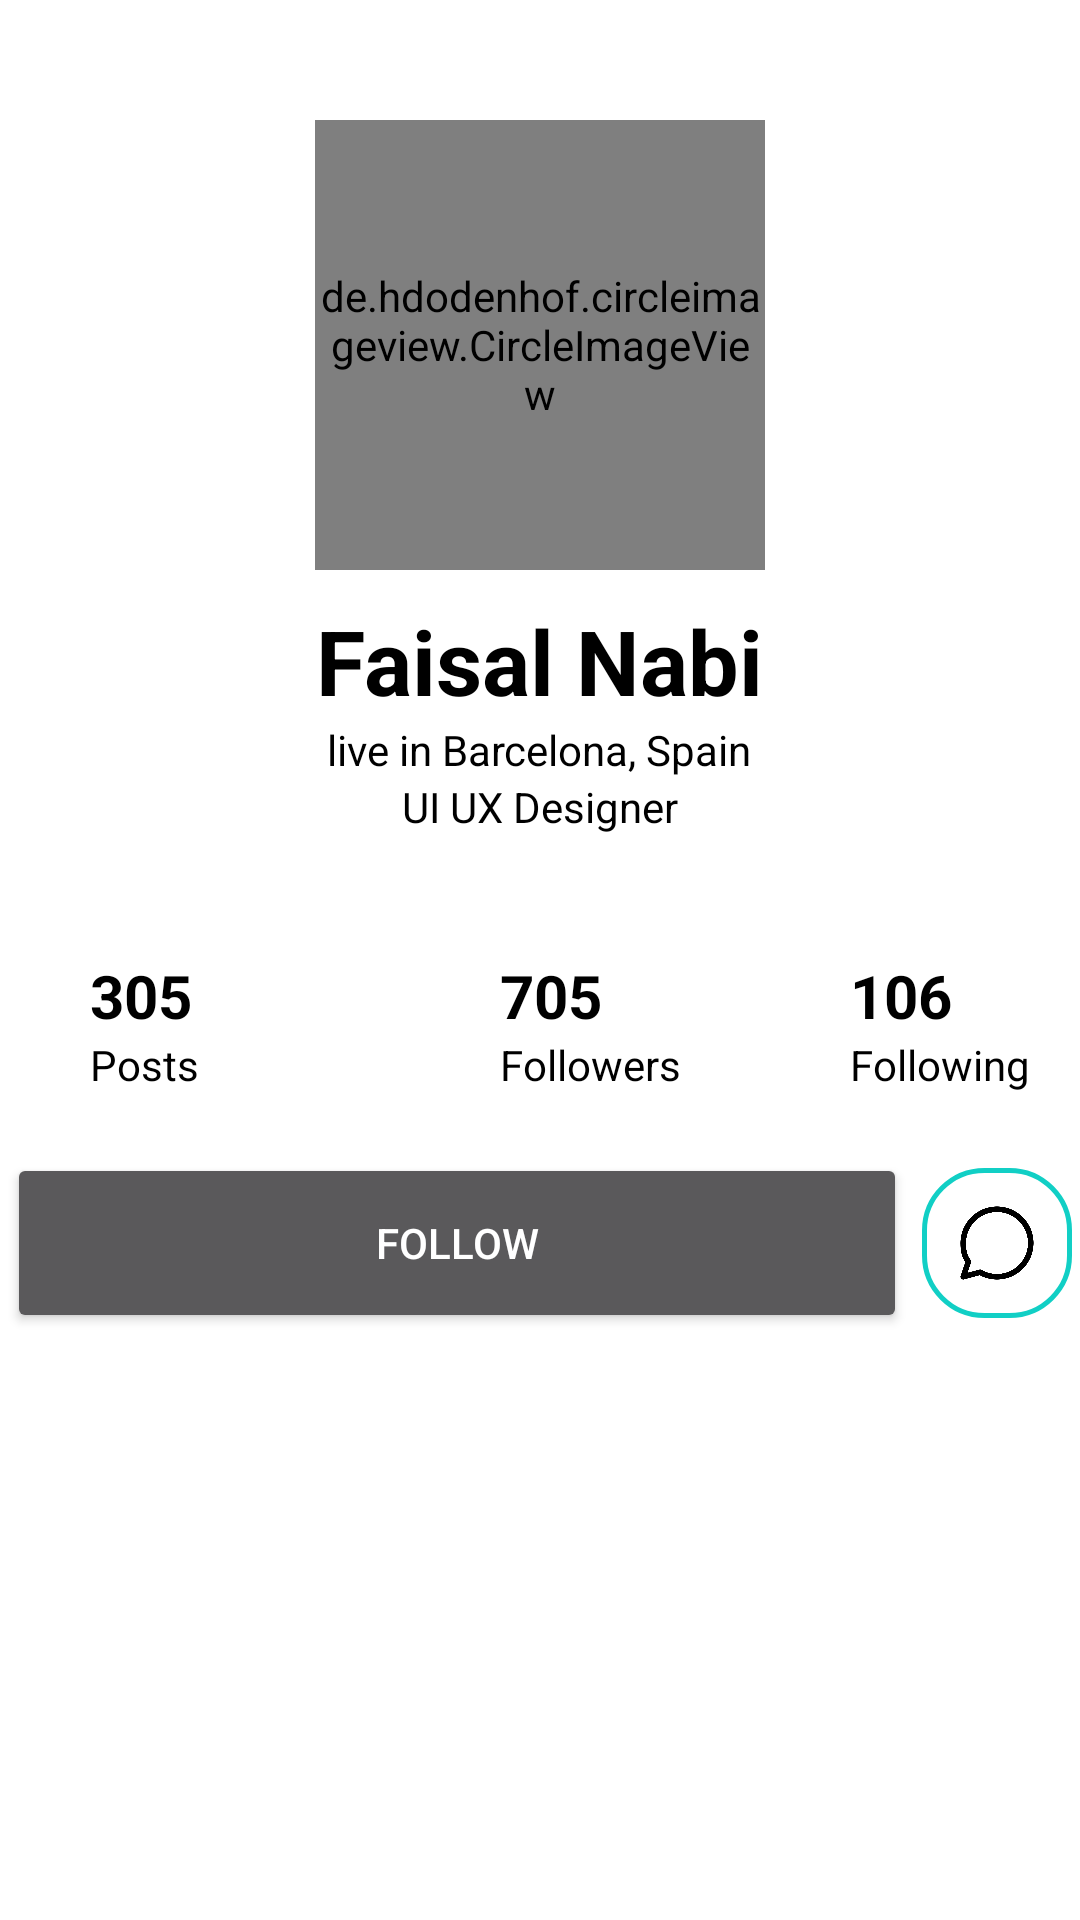

Screen size 1080×1920. Icon name, then its center in pixels as [x,y]:
chat: [997,1243]
